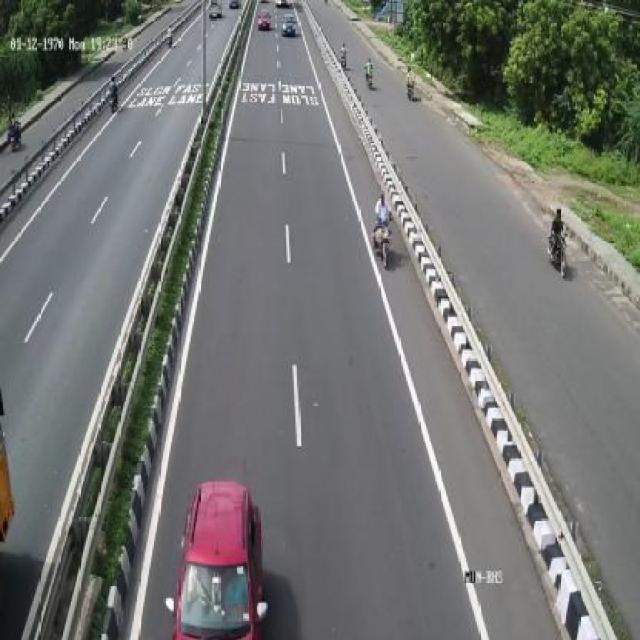car: (182, 474, 268, 640), (278, 11, 300, 38), (252, 8, 274, 34)
